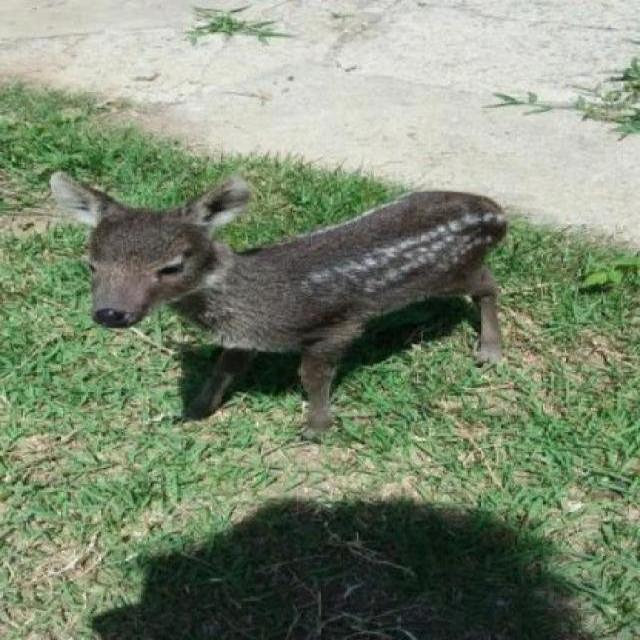deer: (51, 166, 518, 431)
